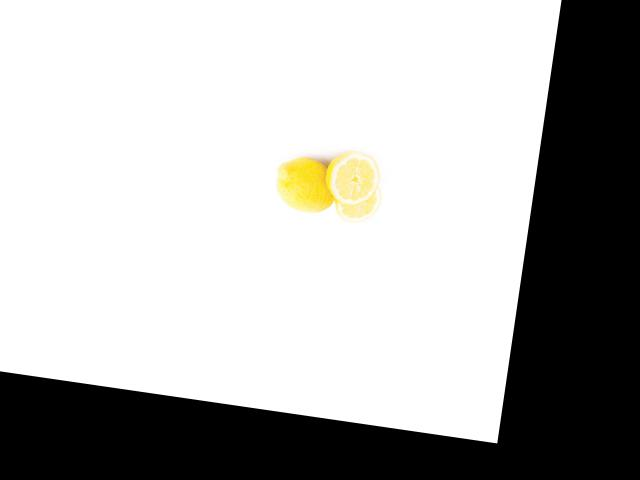lemon: (267, 152, 341, 218)
